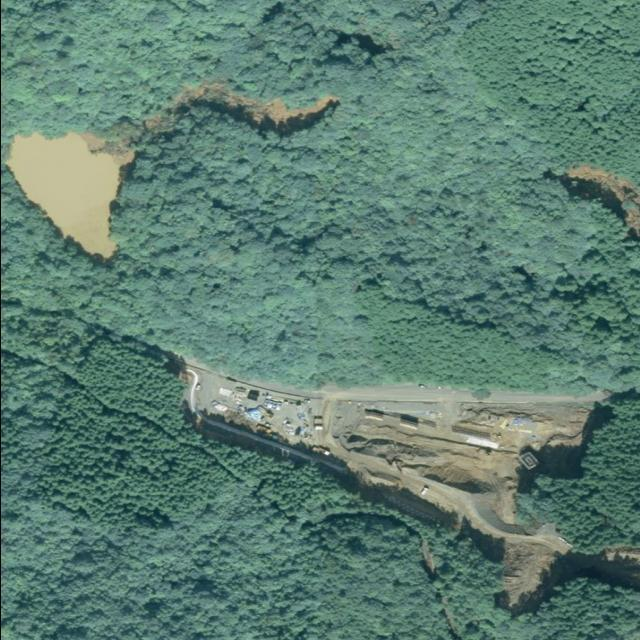landslide: (169, 81, 338, 133), (566, 165, 640, 235)
